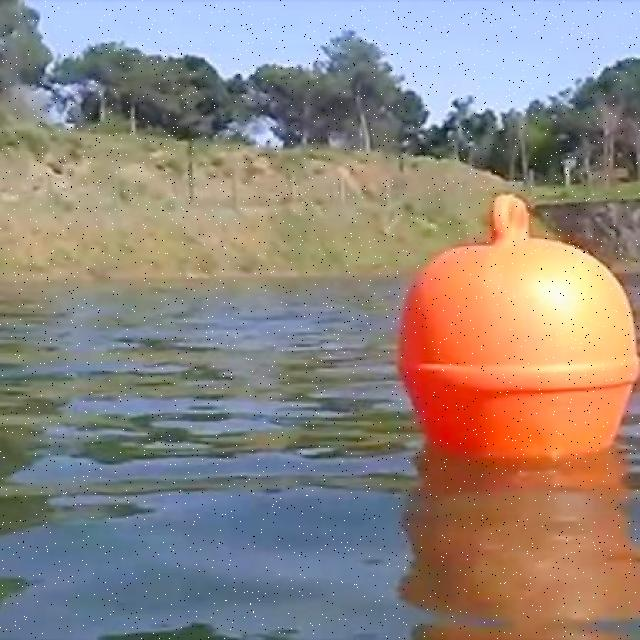buoy: (394, 194, 639, 462)
